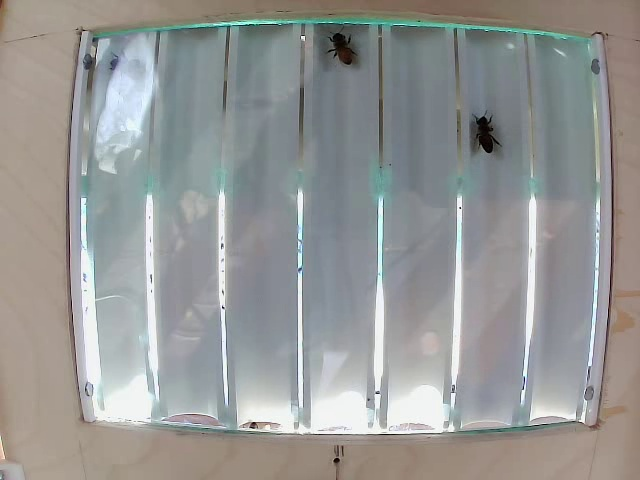bee: (328, 30, 380, 82), (473, 111, 503, 165)
